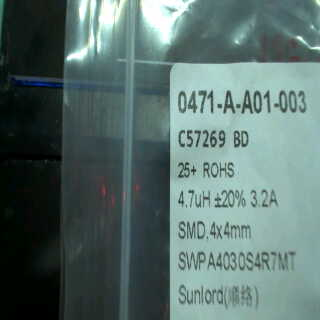4.7uH: (177, 185, 215, 209)
